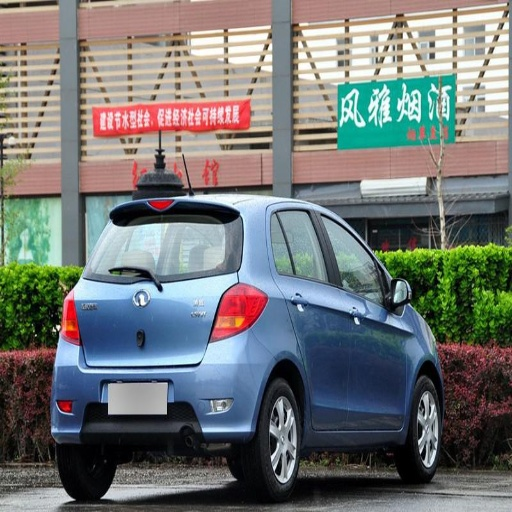back_bumper: (51, 328, 272, 444)
back_right_door: (269, 207, 352, 432)
trunk: (78, 277, 234, 368)
